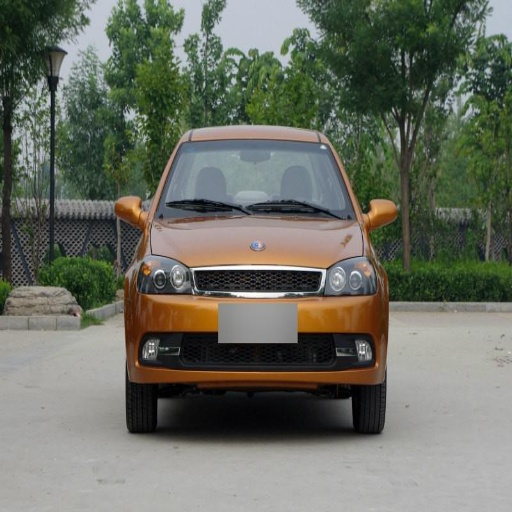front_bumper: (129, 267, 382, 388)
front_right_light: (139, 257, 196, 294)
hood: (149, 212, 365, 267)
